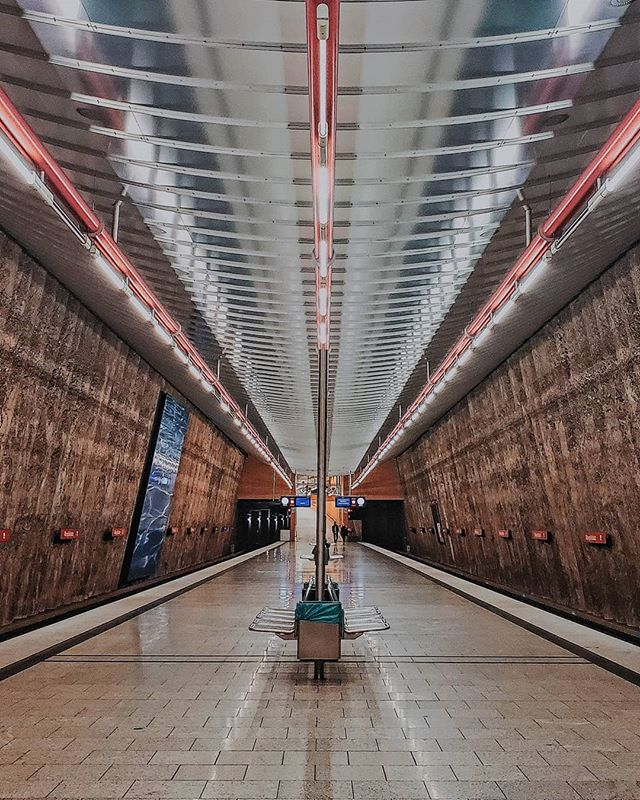bench: (242, 582, 316, 661), (321, 583, 389, 665)
tunnel: (22, 100, 623, 786)
